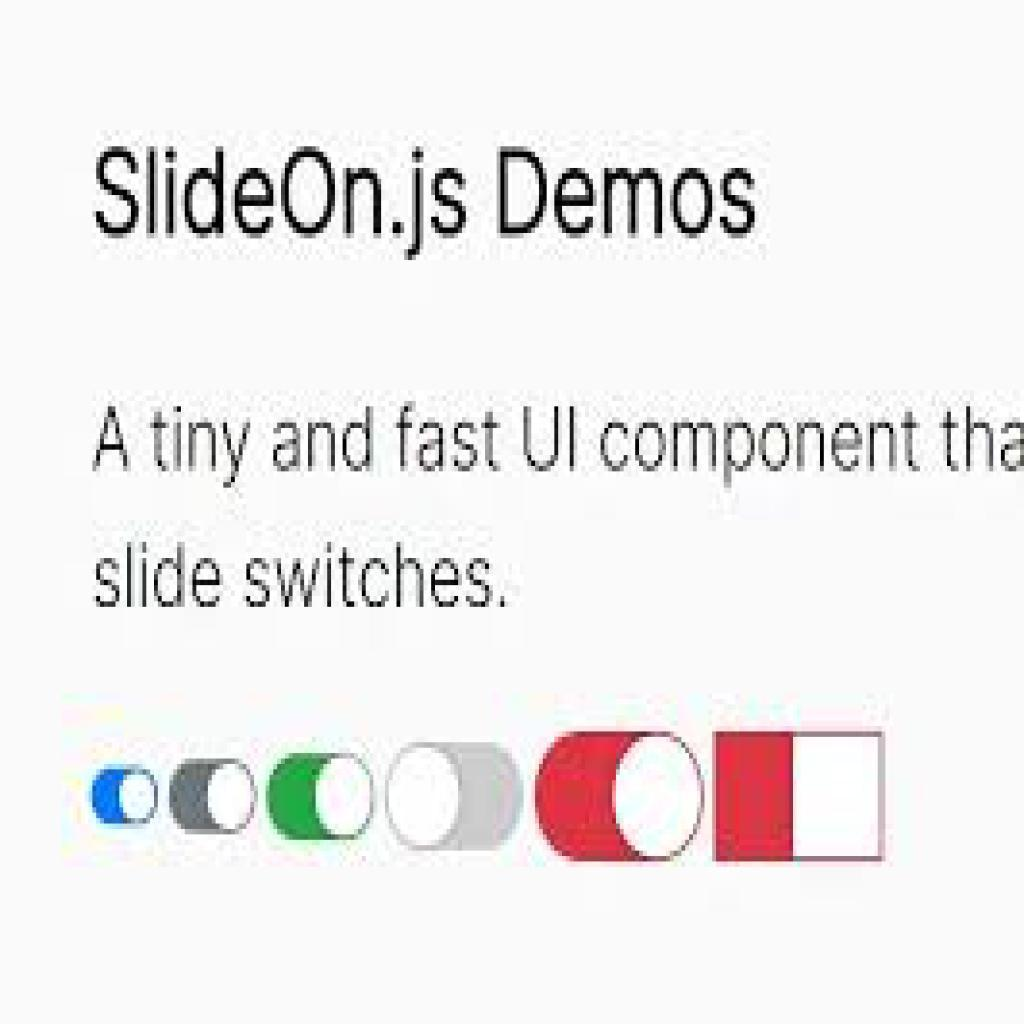switch: (716, 731, 887, 864), (535, 735, 703, 864), (384, 740, 527, 854), (265, 756, 375, 842), (170, 760, 256, 834), (93, 765, 164, 826)
